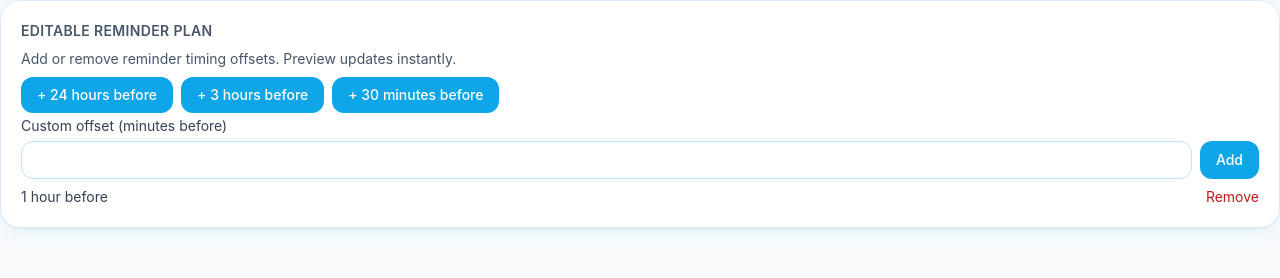
EditableReminderPlan › shows validation for invalid custom offsets
The image size is (1280, 278).
Type "0" into the number field labelled "Custom offset (minutes before)" at (606, 160), box [21, 141, 1192, 179]
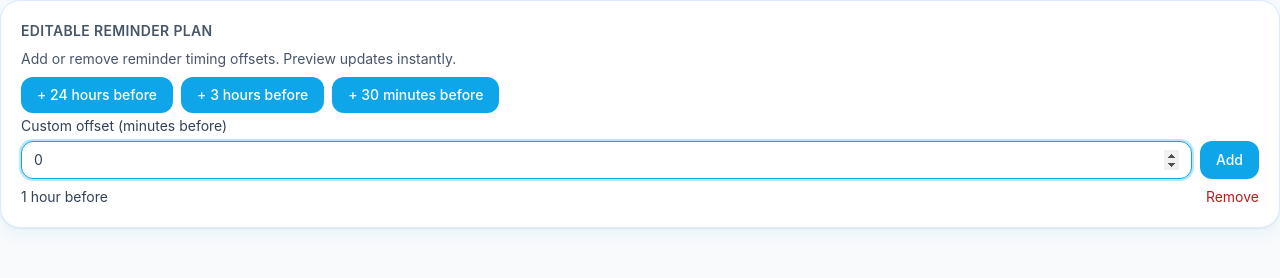
Click the button "Add" at (1229, 160), box [1200, 141, 1259, 179]
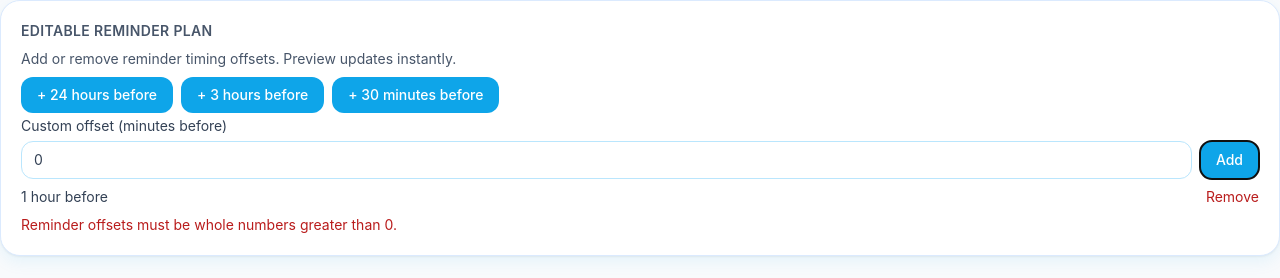
Check: the text "Reminder offsets must be whole numbers greater than 0." is shown, box [21, 216, 397, 233]
